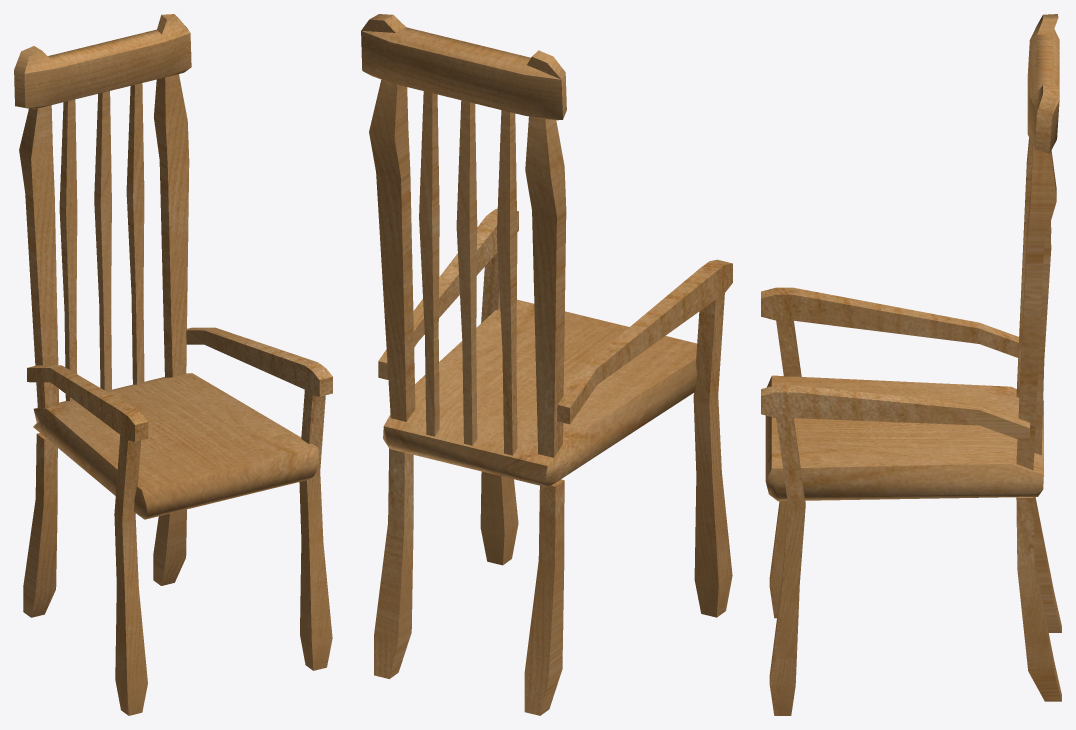
The model's file is ChairII.fbx.
3 renders of one model, left to right at view 1: azimuth 30°, elevation 25°; view 2: azimuth 150°, elevation 25°; view 3: azimuth 270°, elevation 25°, orthographic. The views are drawn at different scales.
Visible parts, largest first — view 1: ChairII; view 2: ChairII; view 3: ChairII.
Part boxes in pixels (bbox=[...]): ChairII: bbox=[14, 14, 332, 715]; ChairII: bbox=[361, 14, 732, 715]; ChairII: bbox=[761, 14, 1061, 715].
Size of the model in its own units: 0.6833 by 1.8 by 0.8003.
